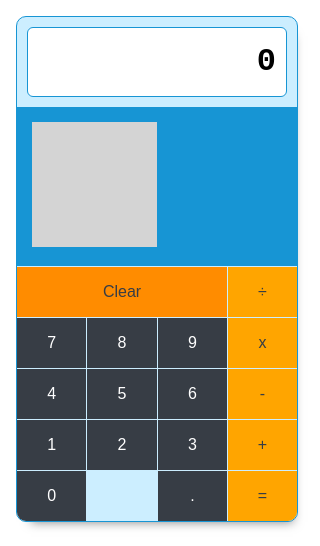
it: clears the screen if the C button is clicked
The width and height of the screenshot is (320, 546).
Click the button with test id "number-1": (52, 445) [17,420,86,470]
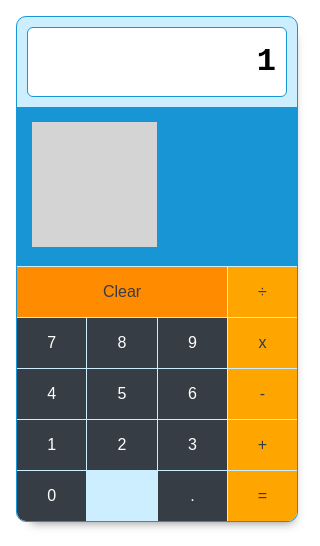
Click the button with test id ".": (192, 496) [158,471,227,521]
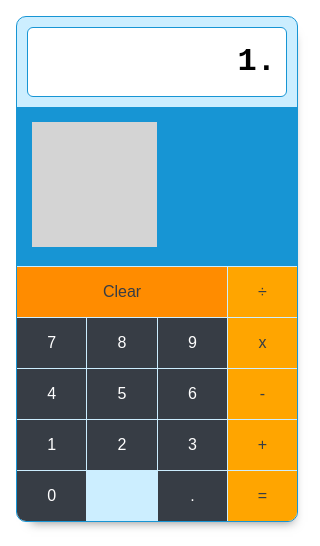
Click the button with test id "number-3": (192, 445) [158,420,227,470]
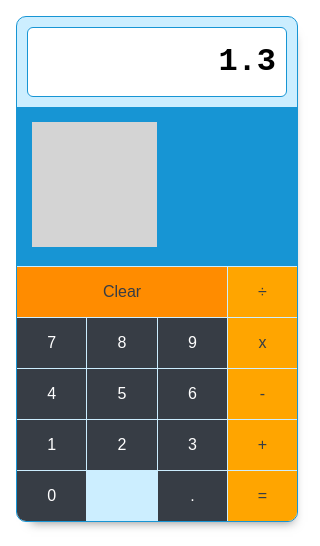
Expected: the text with test id "display" reads "1.3", [218,43,276,80]
Click the button with test id "clear": (122, 292) [17,267,227,317]
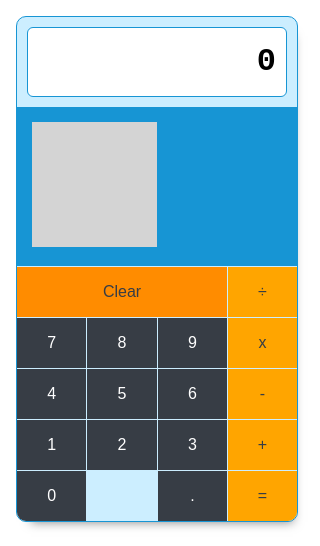
Expected: the text with test id "display" reads "0", [257,43,276,80]
